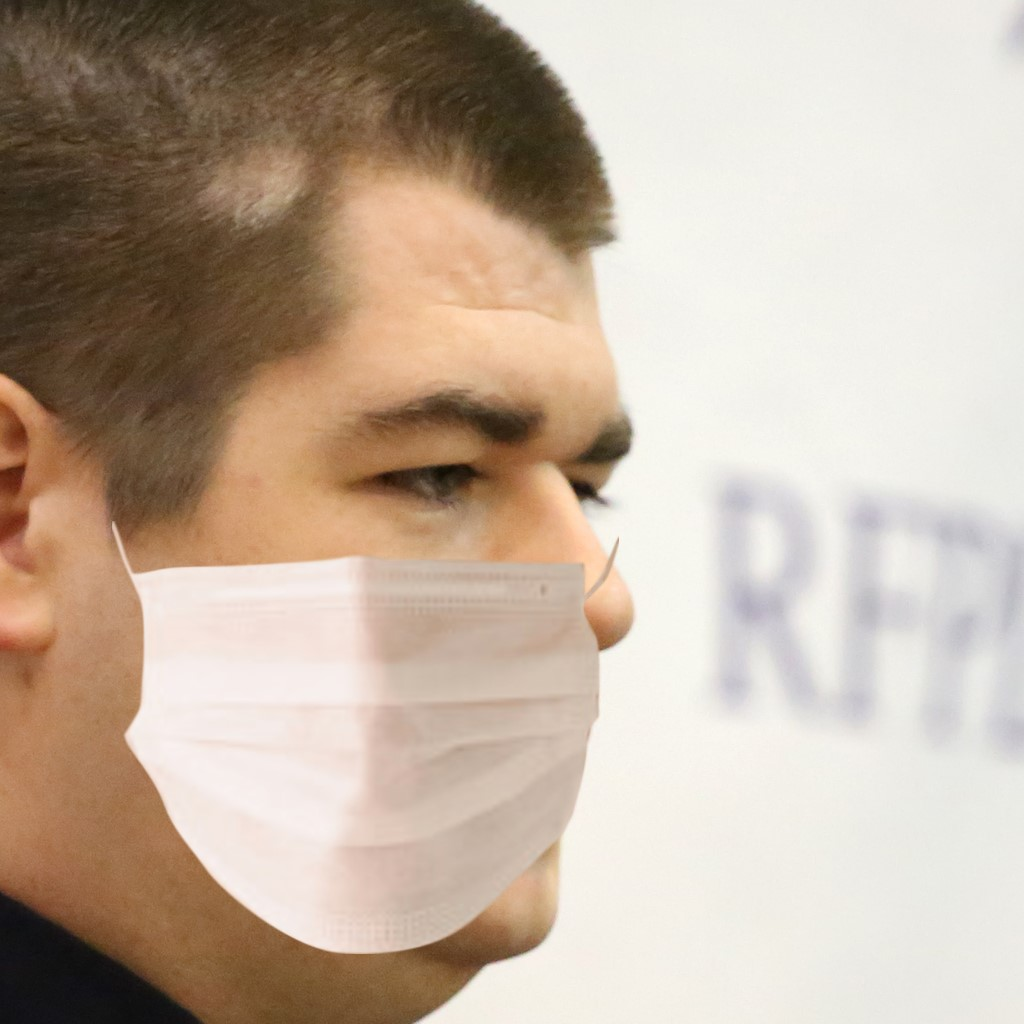con_mascara: (111, 128, 643, 974)
